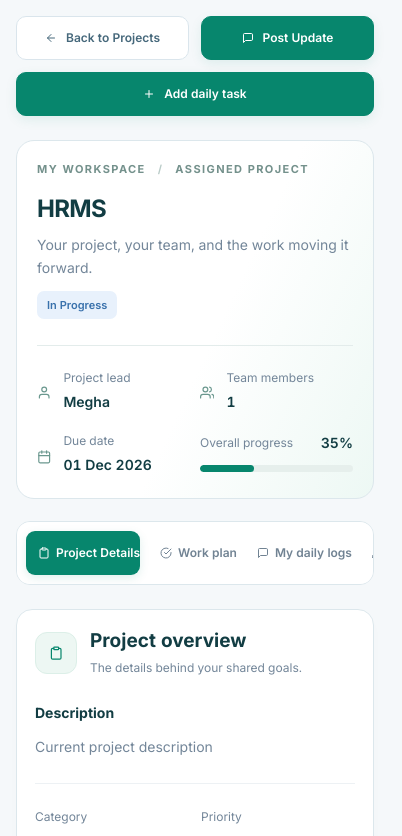
Test case: assigned employee project workspace › opens Post Update and shared team history directly from the employee project page
Click the button "Post Update": (288, 38) x1=201 y1=16 x2=374 y2=60
(page scrolled)
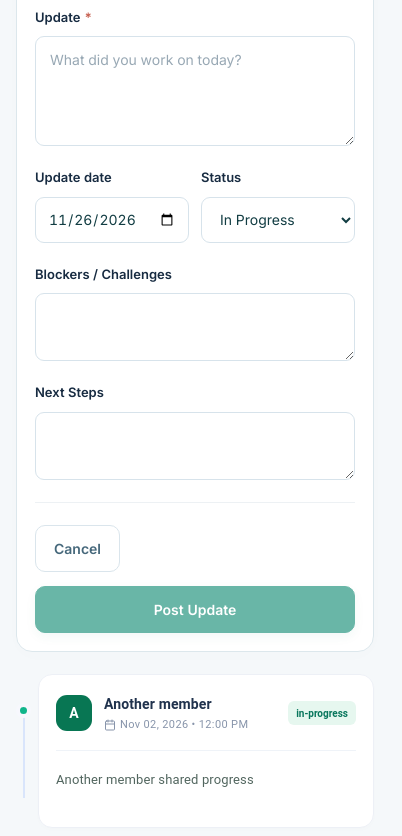
Now the text "Another member shared progress" is shown, box x1=56 y1=772 x2=254 y2=787
